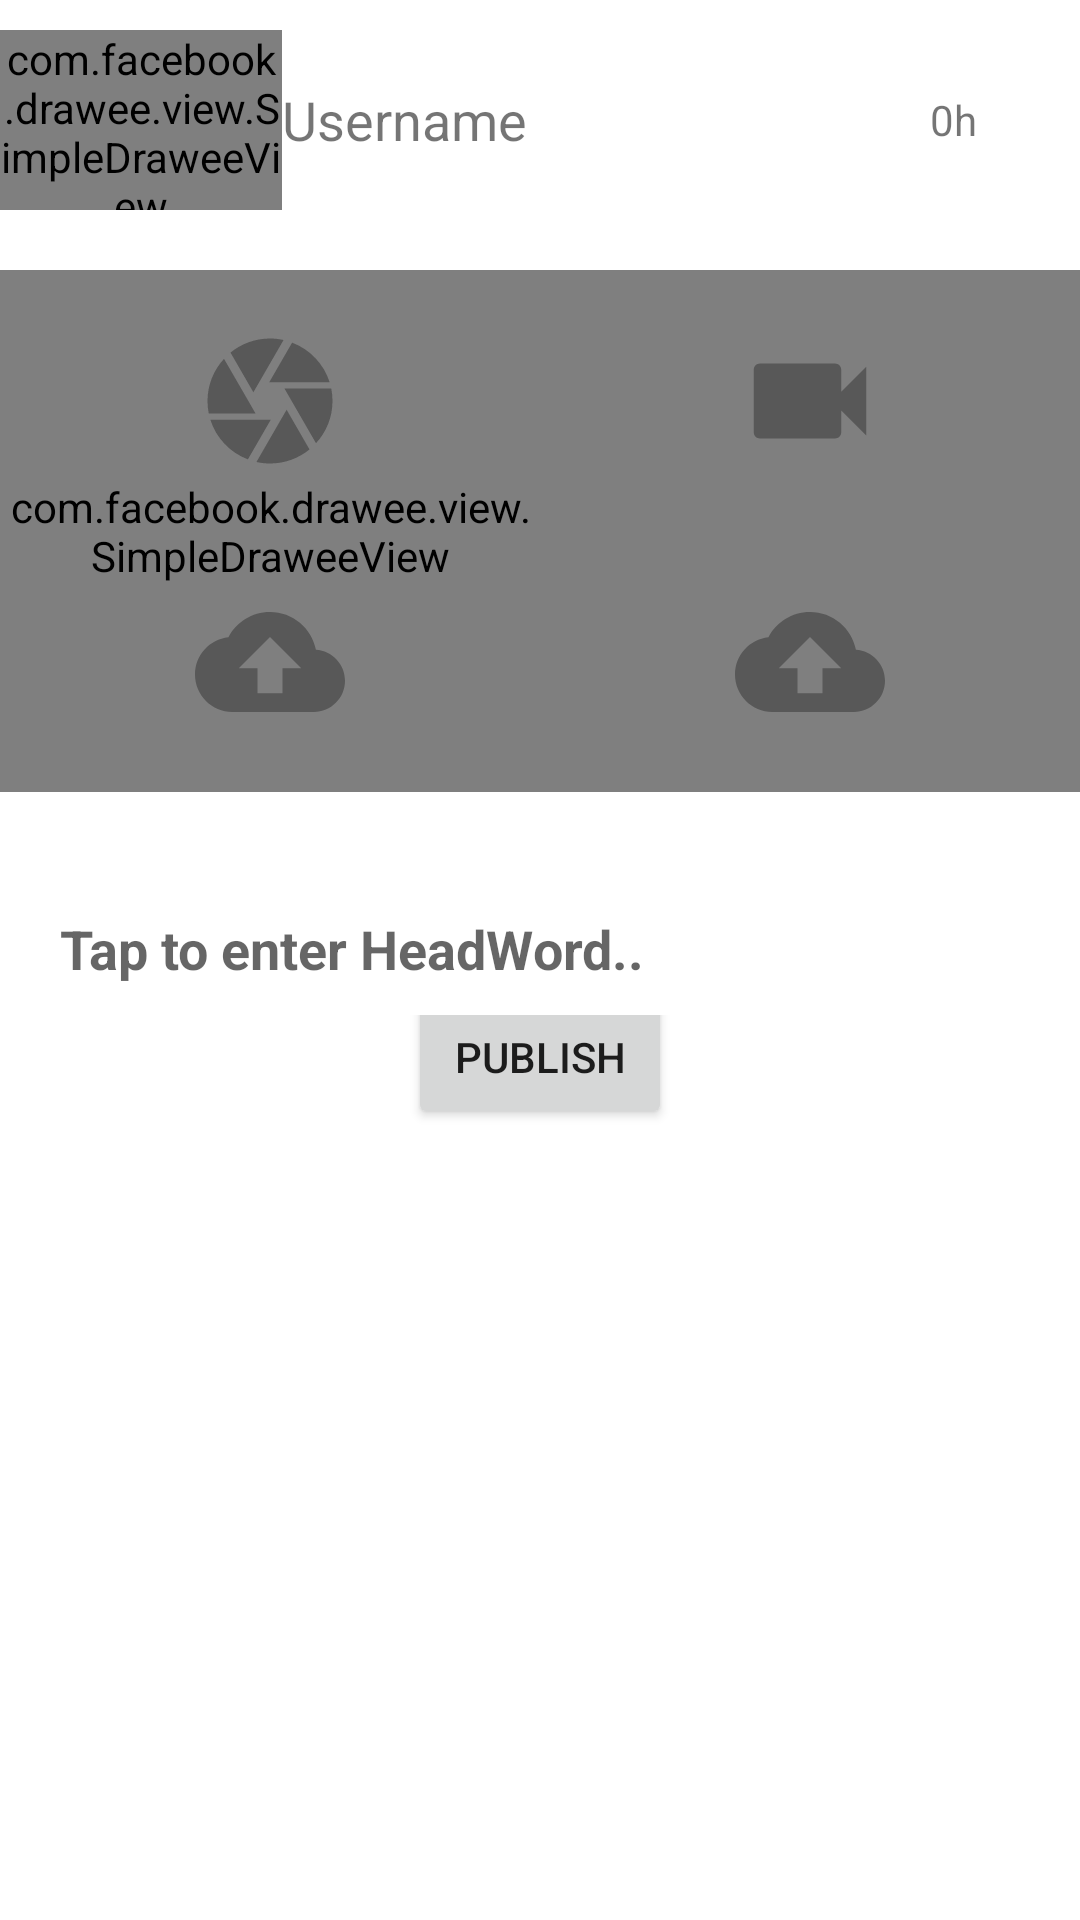

Screen size 1080px x 1920px. Icon name, then its box in pixels as [x1, y1, x2, y2]:
camera: [195, 339, 345, 524]
upload: [195, 542, 345, 712], [735, 612, 885, 712]
videocam: [754, 364, 866, 438]
